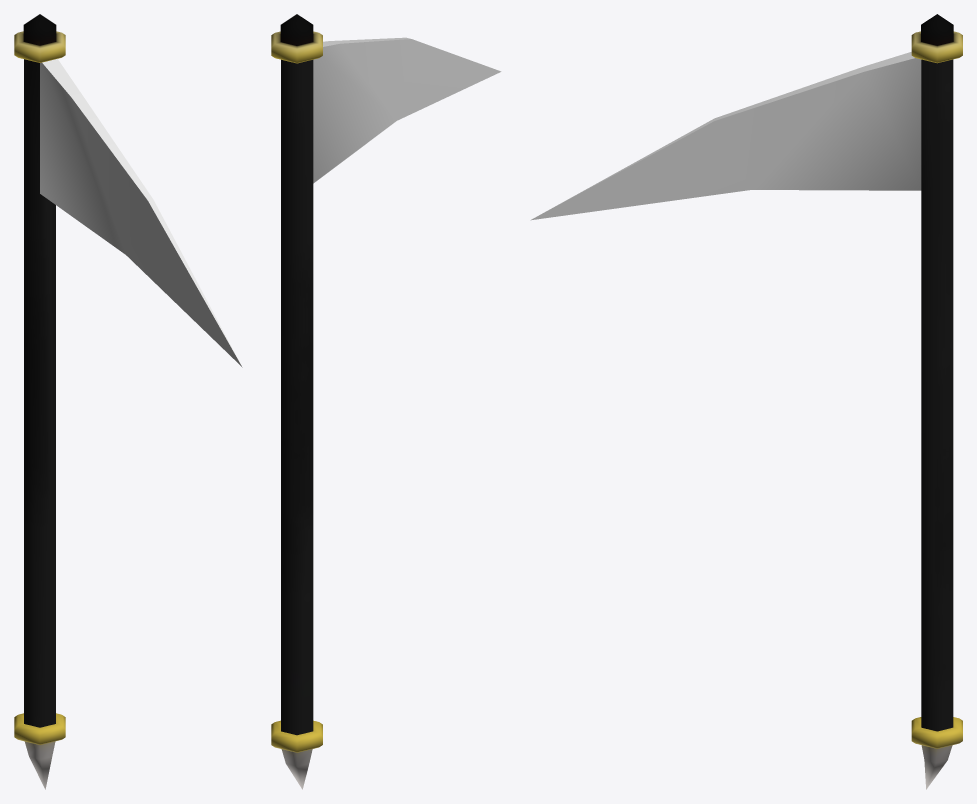
File: MOD_Weapon_Scythe.fbx
The picture shows the model from 3 angles, left to right: view 1: azimuth 30°, elevation 25°; view 2: azimuth 150°, elevation 25°; view 3: azimuth 270°, elevation 25°; orthographic projection.
Parts seen in each view (by area): view 1: MOD_Weapon_Scythe; view 2: MOD_Weapon_Scythe; view 3: MOD_Weapon_Scythe.
Part boxes in pixels (x1,y1,x2,y2): MOD_Weapon_Scythe: (14,14,242,789); MOD_Weapon_Scythe: (271,14,501,789); MOD_Weapon_Scythe: (530,14,962,789).
Bounding box in the file's own units: 16.03 × 231 × 117.
Materials: 2 (1 with a texture image).
